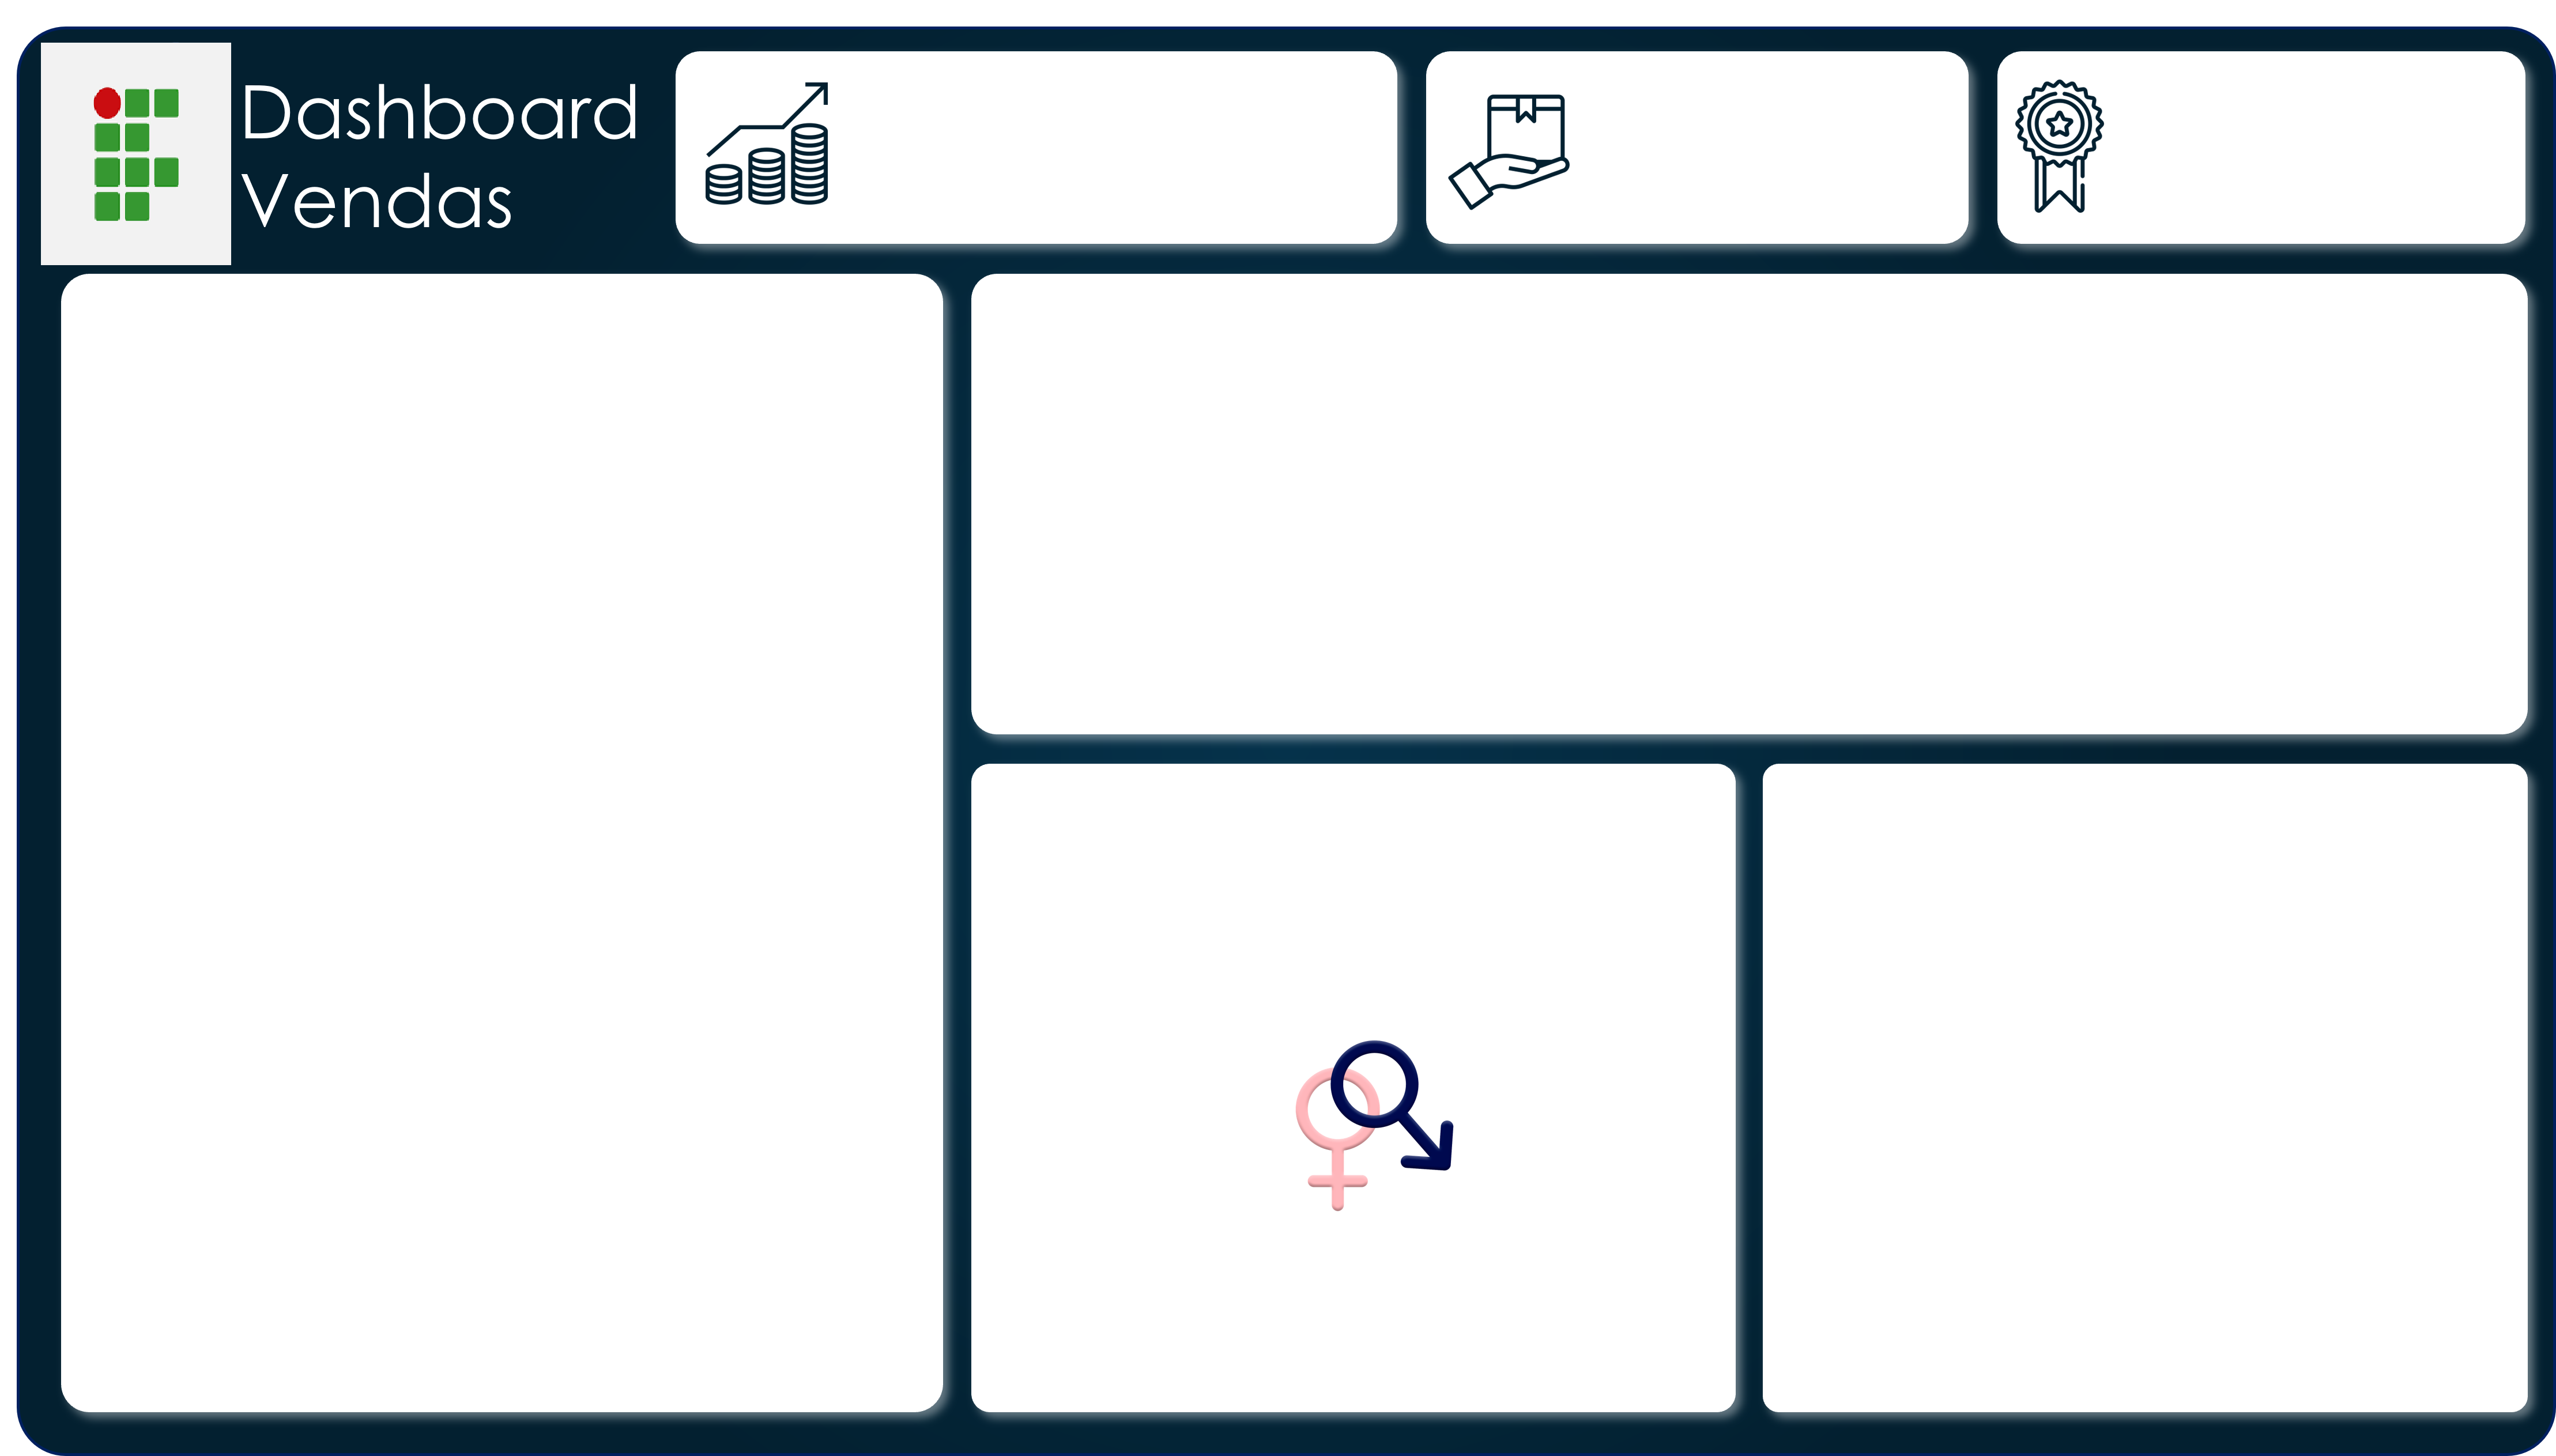

What the dashboard file says about the page in this screenshot:
{"tool":"powerbi","page":{"name":"Página 1","canvas":[1280,720],"ordinal":0},"visuals":[{"type":"donutChart","fields":{"Category":["Vendas.Gênero"],"Y":["Sum(Vendas.Qtd Vendida)"]},"box":[552.4,400.1,279.7,279.7],"z":0},{"type":"columnChart","fields":{"Category":["Vendas.Data.Variation.Hierarquia de datas.Mês"],"Y":["Sum(Vendas.Faturamento Total)"]},"box":[552.4,142.3,683.8,206],"z":1000},{"type":"barChart","fields":{"Category":["Vendas.Produto"],"Y":["Sum(Vendas.Faturamento Total)"]},"box":[88.6,187.1,299.6,426],"z":2000},{"type":"map","fields":{"Category":["Vendas.Estado"],"Size":["Sum(Vendas.Faturamento Total)"]},"box":[935.6,384.2,300.6,312.5],"z":3000},{"type":"card","fields":{"Values":["Sum(Vendas.Faturamento Total)"]},"box":[433,25.9,267.7,94.6],"z":4000},{"type":"card","fields":{"Values":["Sum(Vendas.Qtd Vendida)"]},"box":[788.3,25.9,197.1,94.6],"z":5000},{"type":"card","fields":{"Values":["Min(Vendas.Produto)"]},"box":[1063,22.9,204,97.5],"z":6000}]}

Visuals, with their boxes in screenshot pixels (x1, y1, x2, y2), scaled from the page's 1280x720 canvas onto the 2556x1456 screenshot:
donutChart - Vendas.Gênero x Sum(Vendas.Qtd Vendida): <box>1103,809,1661,1375</box>
columnChart - Vendas.Data.Variation.Hierarquia de datas.Mês x Sum(Vendas.Faturamento Total): <box>1103,288,2468,704</box>
barChart - Vendas.Produto x Sum(Vendas.Faturamento Total): <box>177,378,775,1240</box>
map - Vendas.Estado x Sum(Vendas.Faturamento Total): <box>1868,777,2468,1409</box>
card - Sum(Vendas.Faturamento Total): <box>865,52,1399,244</box>
card - Sum(Vendas.Qtd Vendida): <box>1574,52,1967,244</box>
card - Min(Vendas.Produto): <box>2123,46,2530,243</box>
